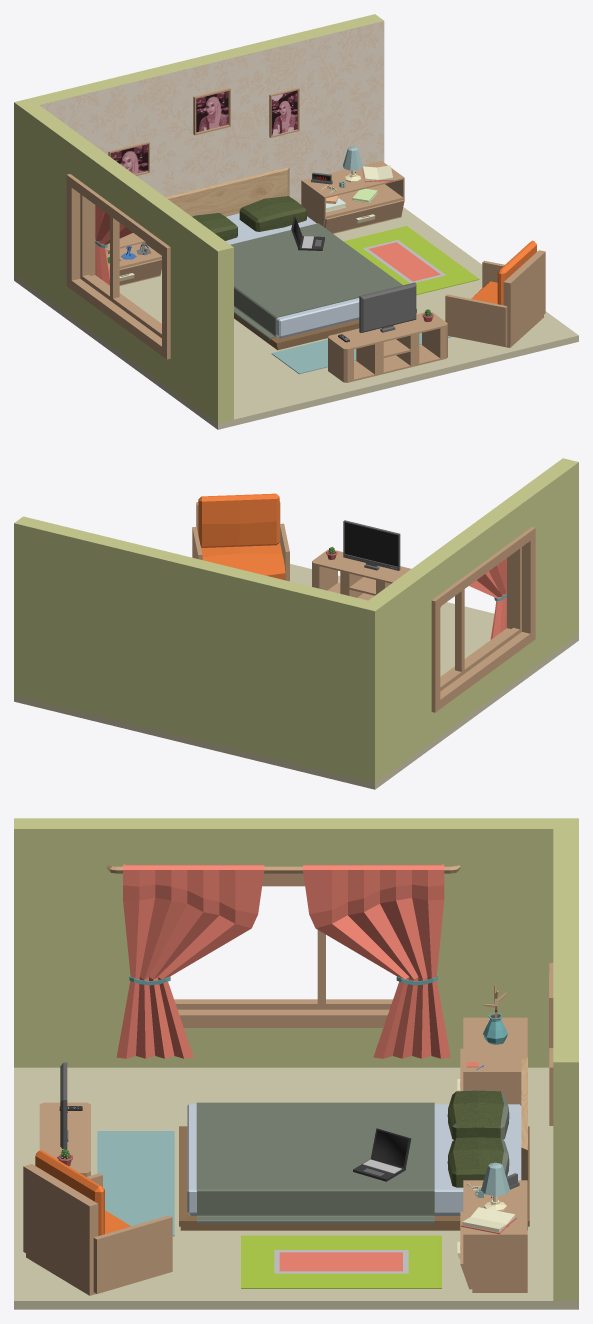
The model's file is low_poly_bedroom.glb.
3 views of the same model, one above another, from view 1: azimuth 30°, elevation 25°; view 2: azimuth 150°, elevation 25°; view 3: azimuth 270°, elevation 25° (orthographic). The views are drawn at different scales.
Visible parts, largest first — view 1: Object_2; view 2: Object_2; view 3: Object_2, Object_3.
Boxes of the visible parts, x1,y1,x2,y2 form: Object_2: (14, 14, 578, 429); Object_2: (14, 458, 578, 789); Object_2: (14, 818, 578, 1309); Object_3: (372, 1130, 477, 1189).
Size of the model in its own units: 4.47 by 2.09 by 4.33.
Materials: 5 (5 with a texture image).
